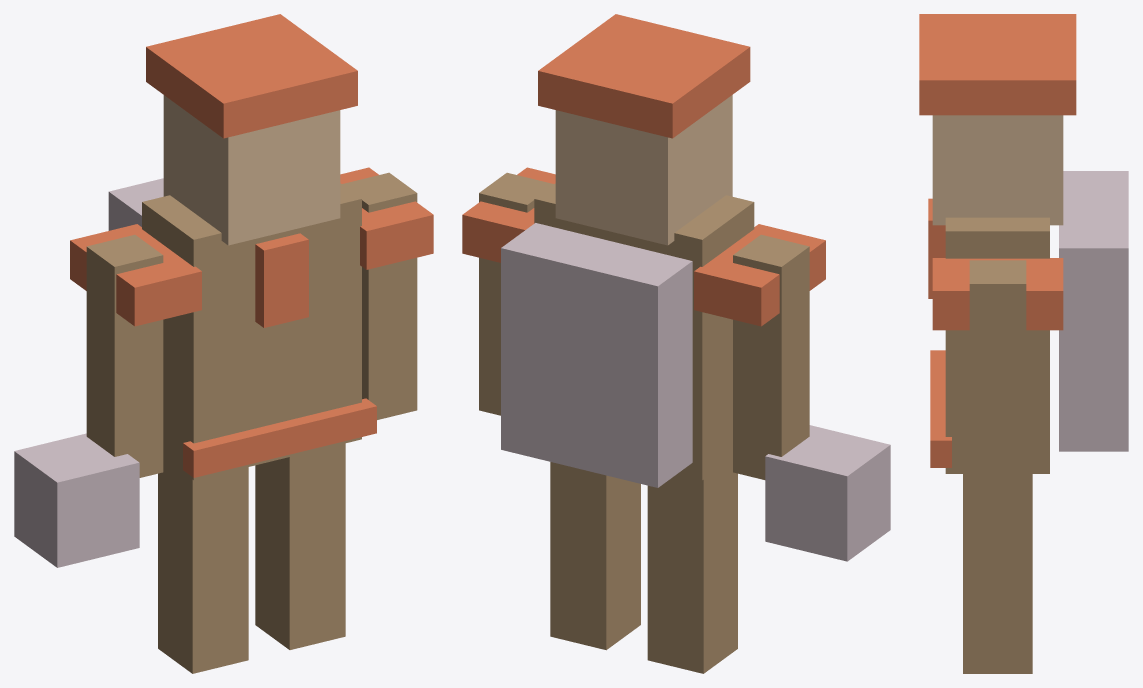
The model's file is 04_soren_starfall_archivist_from_buried.glb.
3 views of the same model, side by side, from view 1: azimuth 30°, elevation 25°; view 2: azimuth 150°, elevation 25°; view 3: azimuth 270°, elevation 25° (orthographic).
Visible parts, largest first — view 1: Soren Starfall, Archivist from Buried; view 2: Soren Starfall, Archivist from Buried; view 3: Soren Starfall, Archivist from Buried.
Part boxes in pixels (x1,y1,x2,y2): Soren Starfall, Archivist from Buried: (14,14,433,673); Soren Starfall, Archivist from Buried: (462,14,890,673); Soren Starfall, Archivist from Buried: (919,14,1128,673).
Bounding box in the file's own units: 1.04 × 1.56 × 0.5029.
